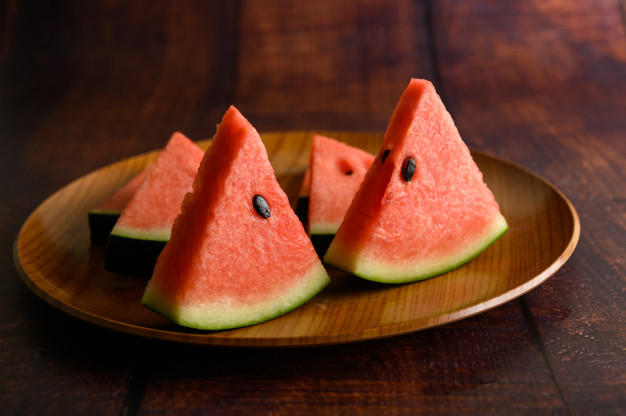Semangka: (156, 97, 295, 356), (345, 62, 485, 300)
